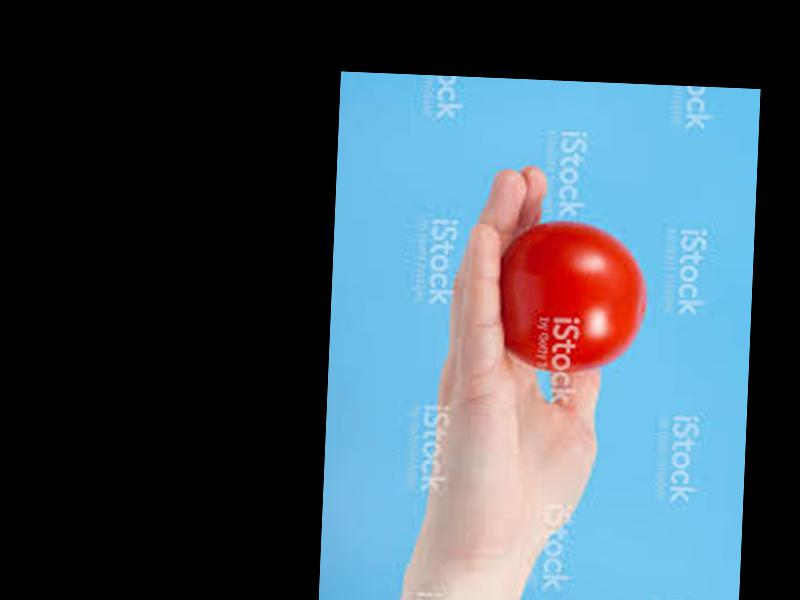Tomato: (498, 219, 646, 373)
